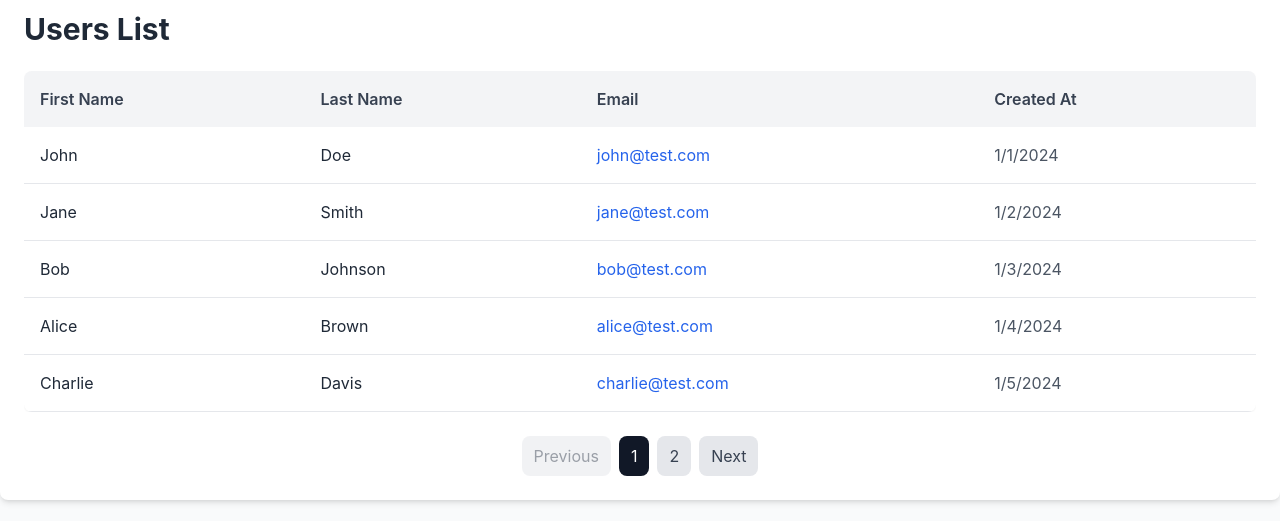
Test case: UserList Component › Pagination › navigates to next page
Click the button with test id "next-button".
click(729, 456)  # box [699, 436, 758, 476]
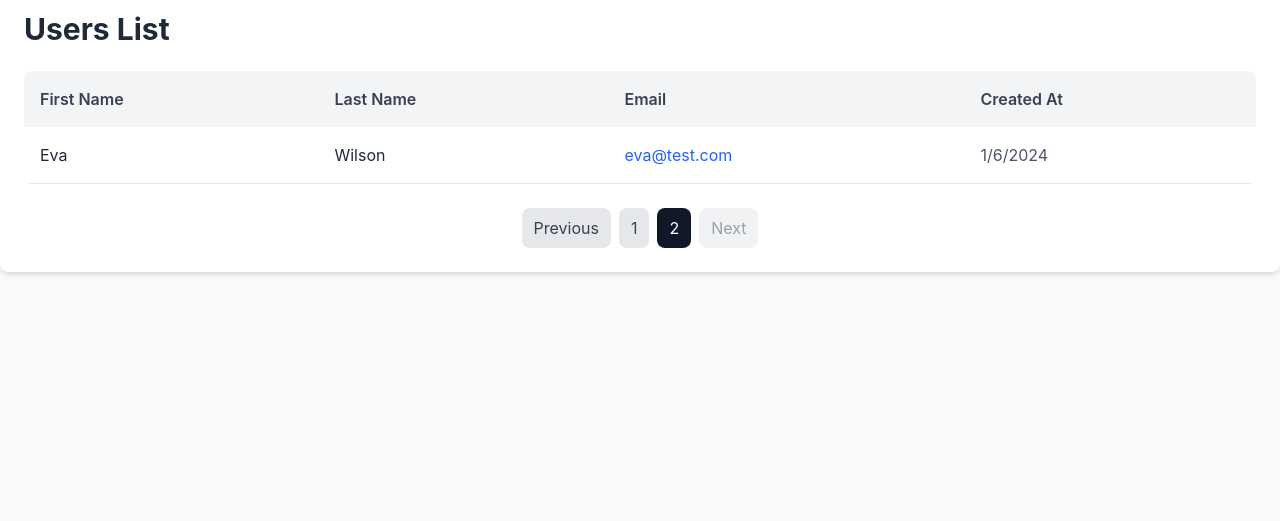
Check: the row with test id "user-row-6" is shown, box [24, 127, 1256, 184]
